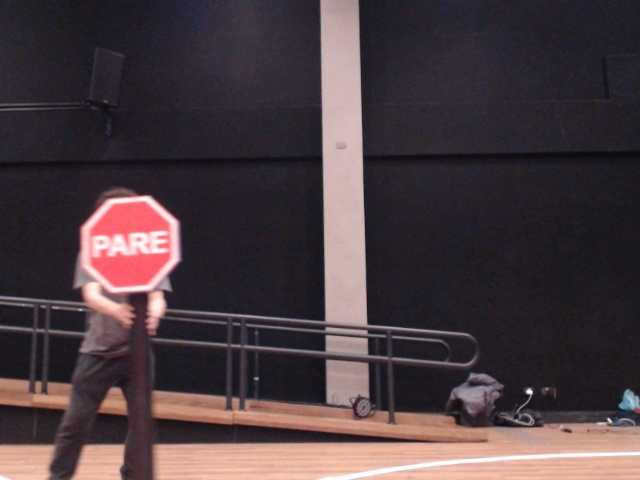SEMAFORO: (65, 182, 214, 319)
